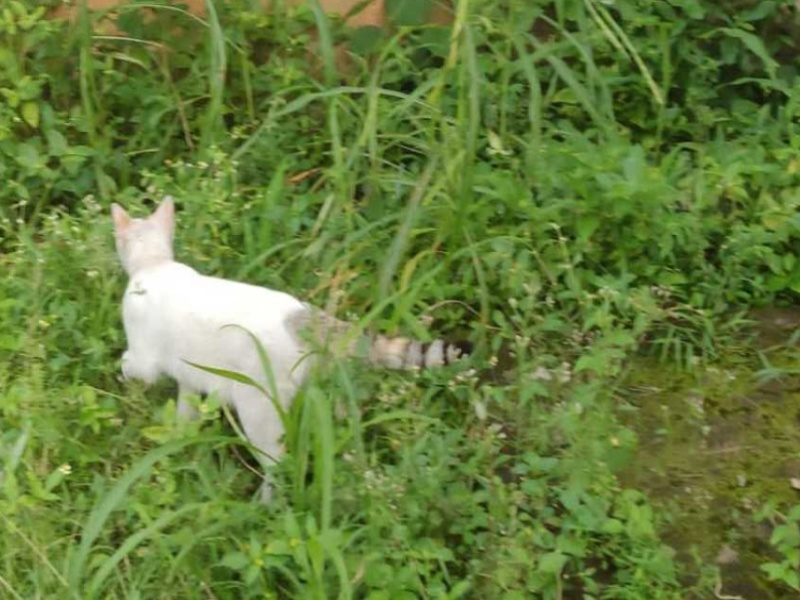cat: (106, 195, 480, 512)
